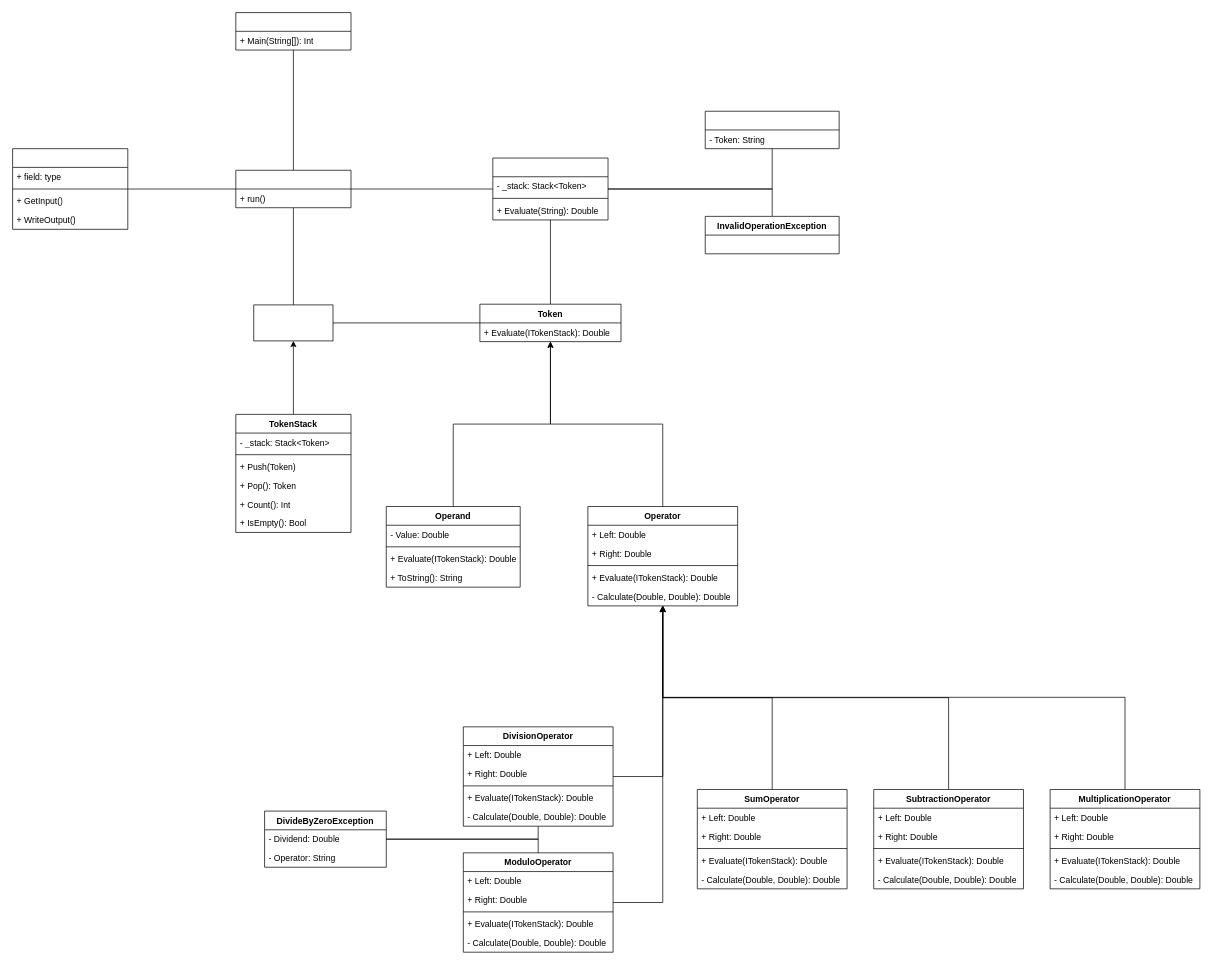
Some shapes in this 1212 by 967 pixel diagram are drawn without their labels. The shapes that lost their labels are listed below. From the top down, each one's box as (x1, y1, x2, y2) in pixels, then its label:
(235, 12, 351, 50): Calculator
(705, 111, 839, 149): InvalidTokenException
(12, 148, 128, 229): View
(235, 170, 351, 208): Controller
(492, 157, 608, 220): Model
(253, 304, 333, 341): «interface» ITokenStack
